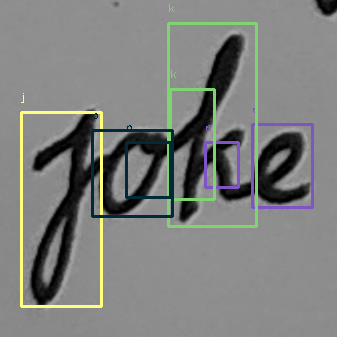e: (250, 128, 313, 208)
j: (24, 104, 99, 311)
k: (174, 29, 249, 224)
o: (96, 125, 168, 219)
